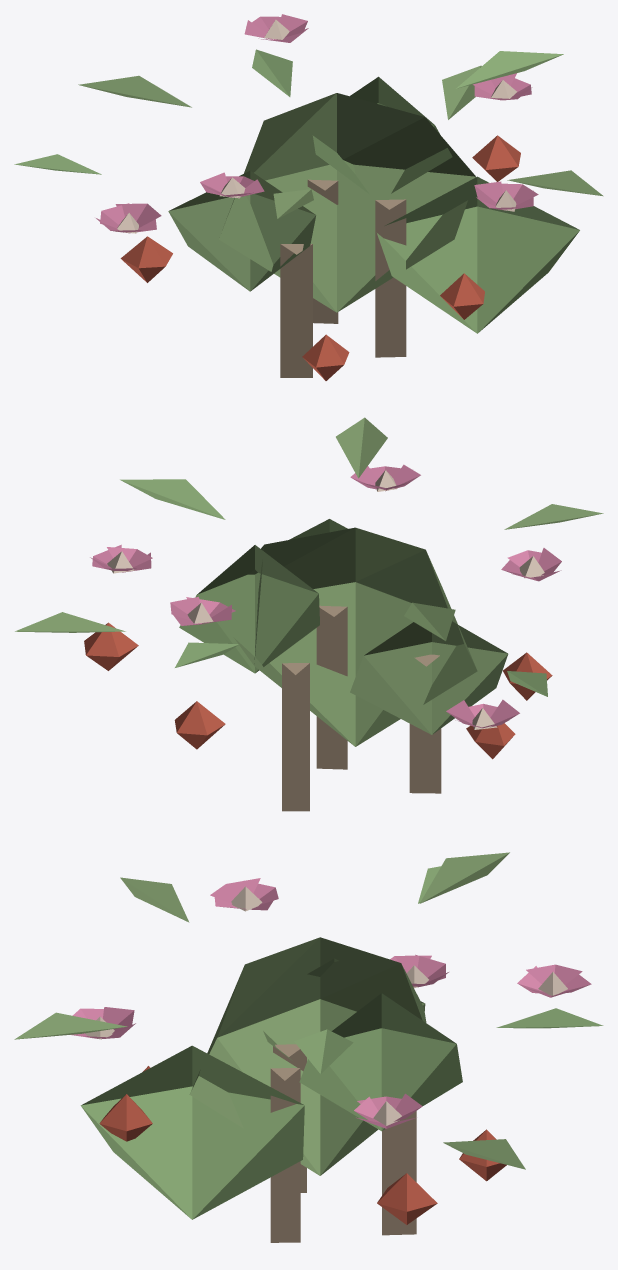
Rendered from guan.yueju__bloom.glb.
3 renders of one model, top to bottom at view 1: azimuth 30°, elevation 25°; view 2: azimuth 150°, elevation 25°; view 3: azimuth 270°, elevation 25°, orthographic. The views are drawn at different scales.
Visible parts, largest first — view 1: guan.yueju__bloom; view 2: guan.yueju__bloom; view 3: guan.yueju__bloom.
Boxes of the visible parts, bbox=[...] form: guan.yueju__bloom: bbox=[14, 14, 603, 380]; guan.yueju__bloom: bbox=[15, 417, 603, 811]; guan.yueju__bloom: bbox=[14, 852, 603, 1242].
Size of the model in its own units: 1.84 by 0.9184 by 1.72.
